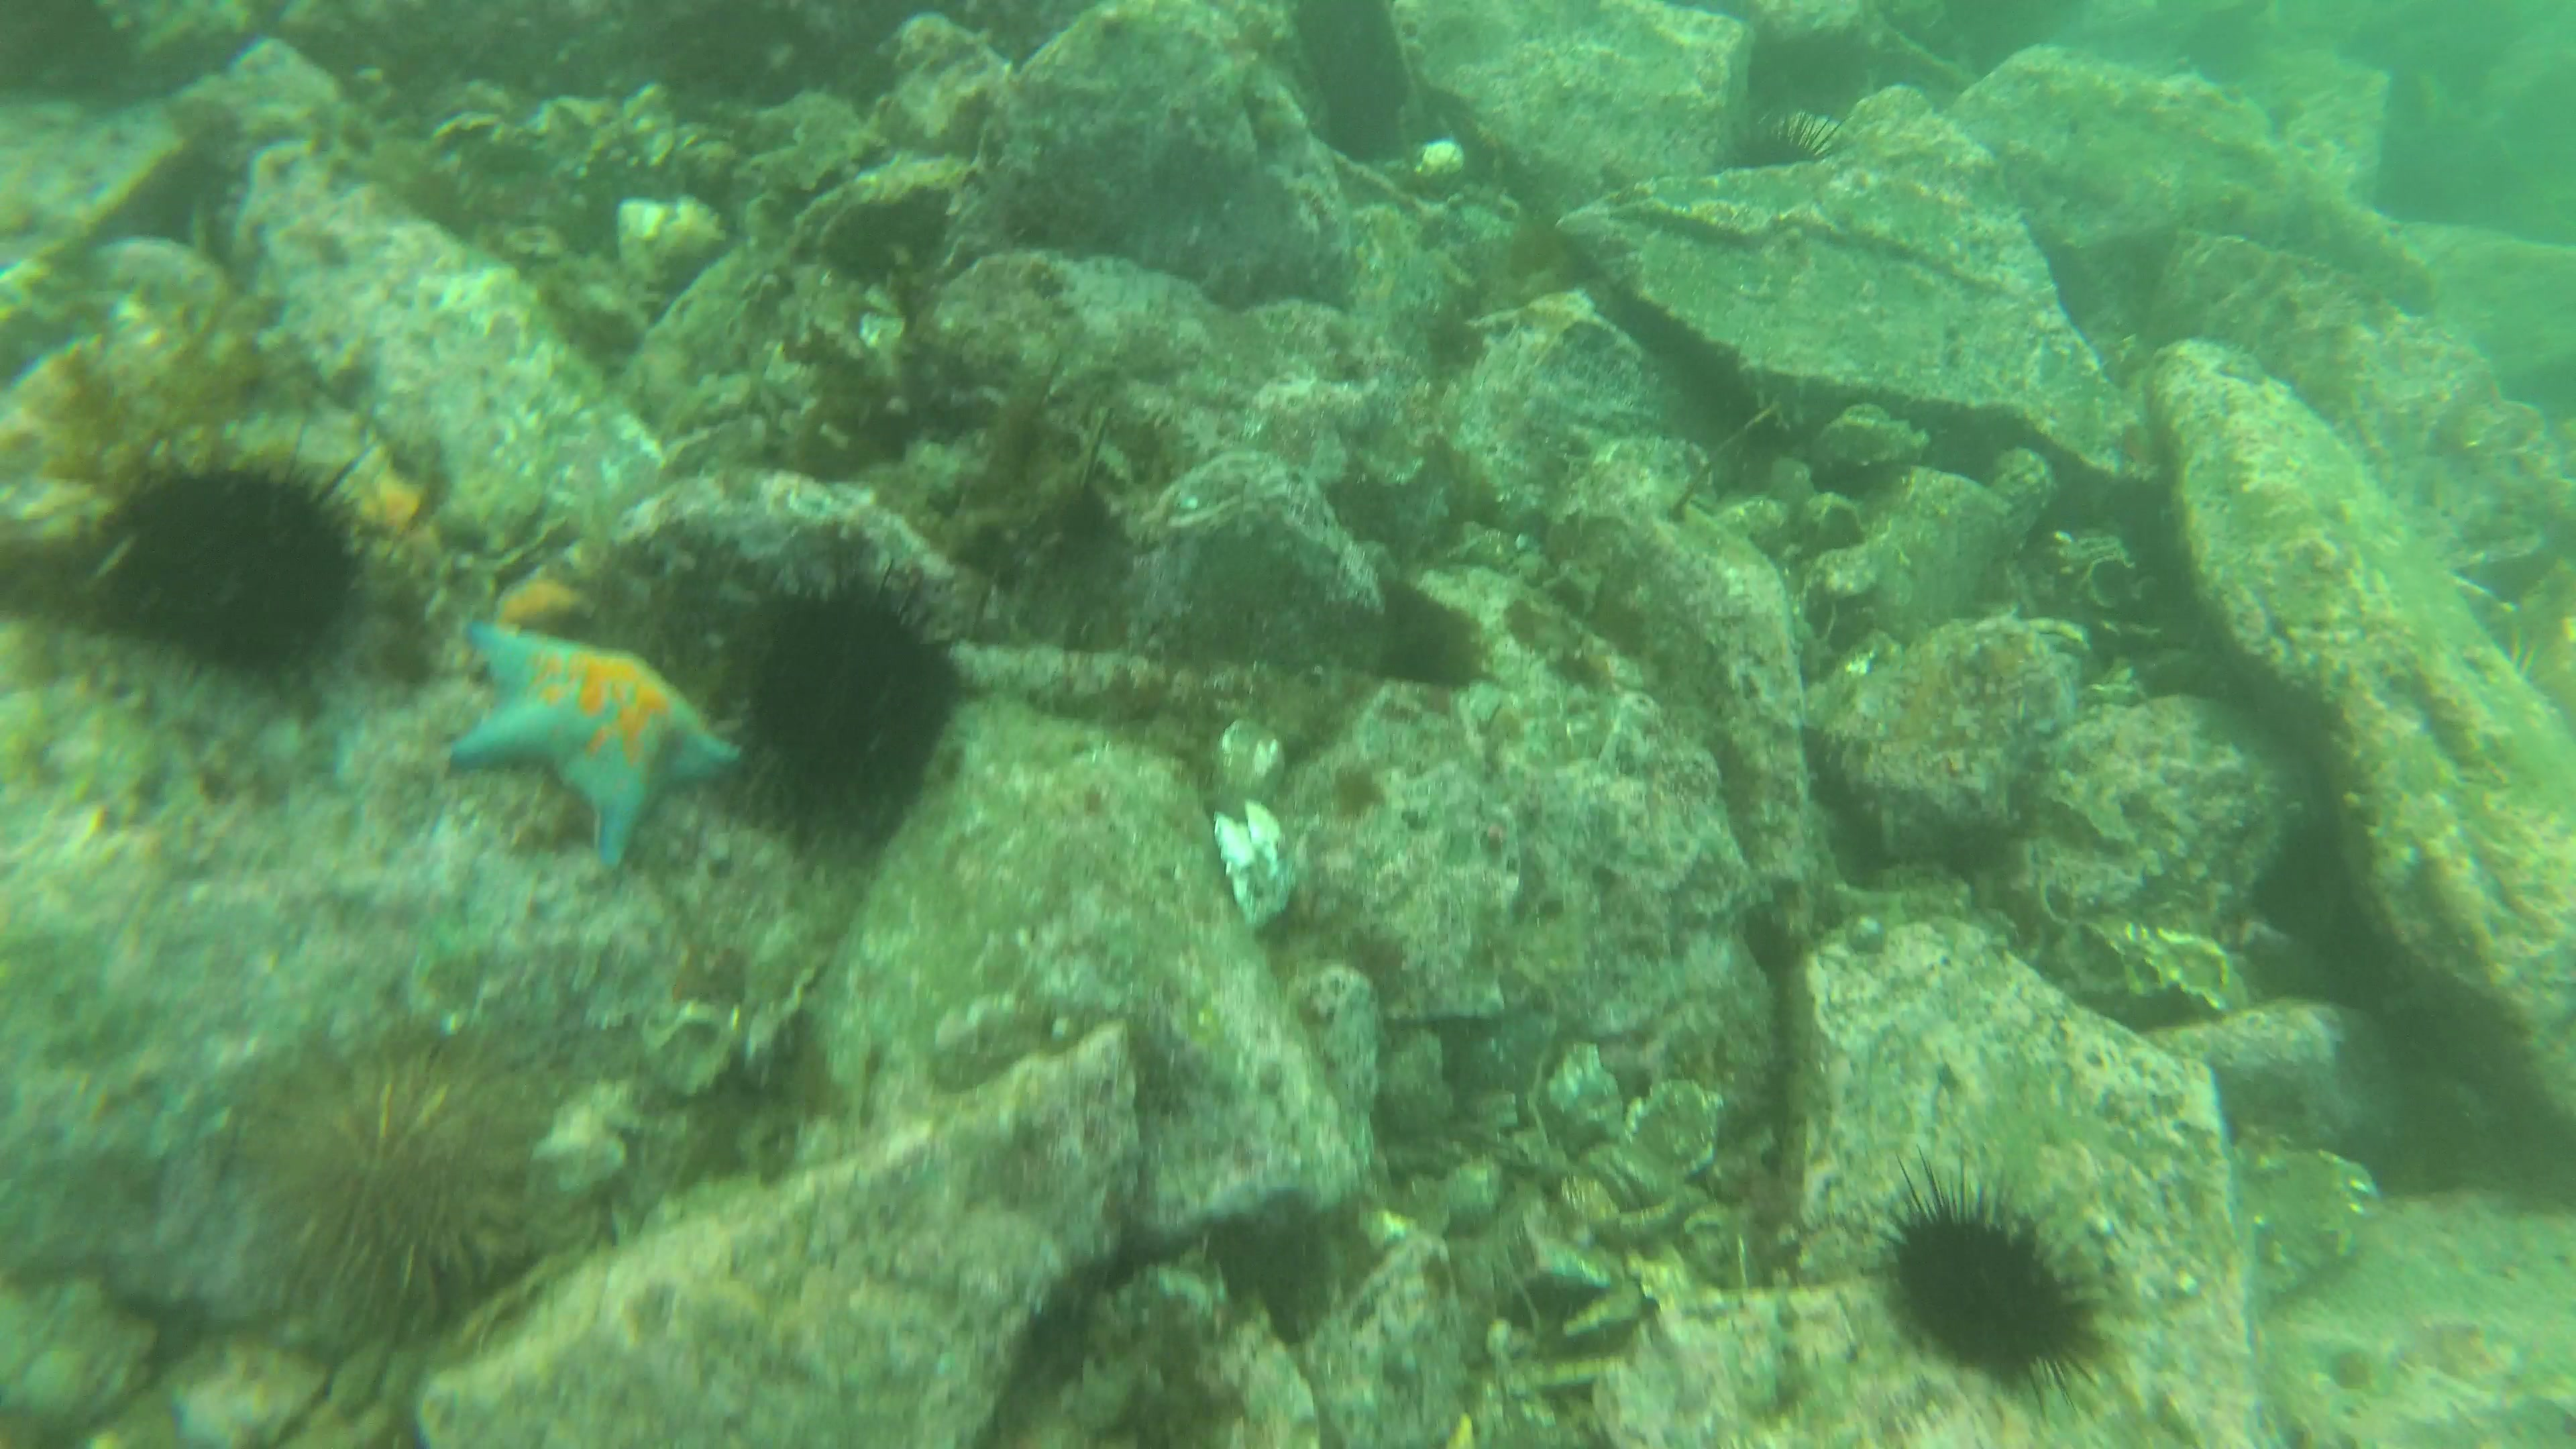echinus: (246, 1044, 538, 1336), (97, 465, 377, 685), (1863, 1164, 2125, 1396), (761, 564, 954, 833)
starfish: (456, 610, 717, 865)
